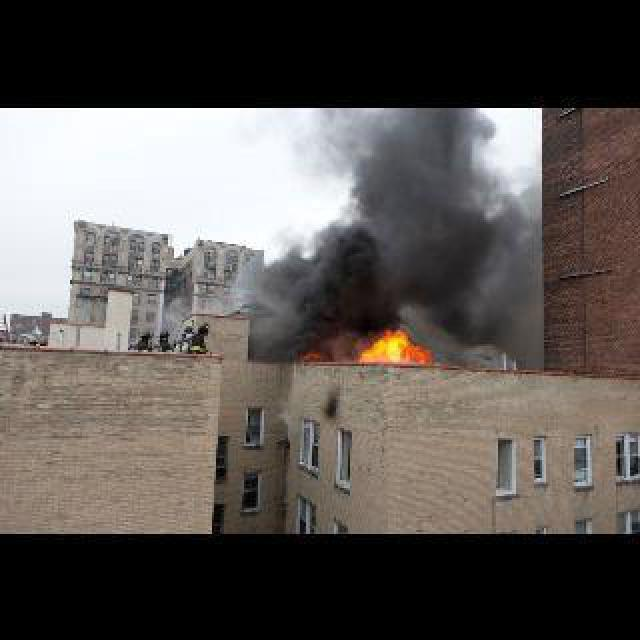Fire: (358, 321, 433, 366)
Smoke: (259, 112, 537, 342)
